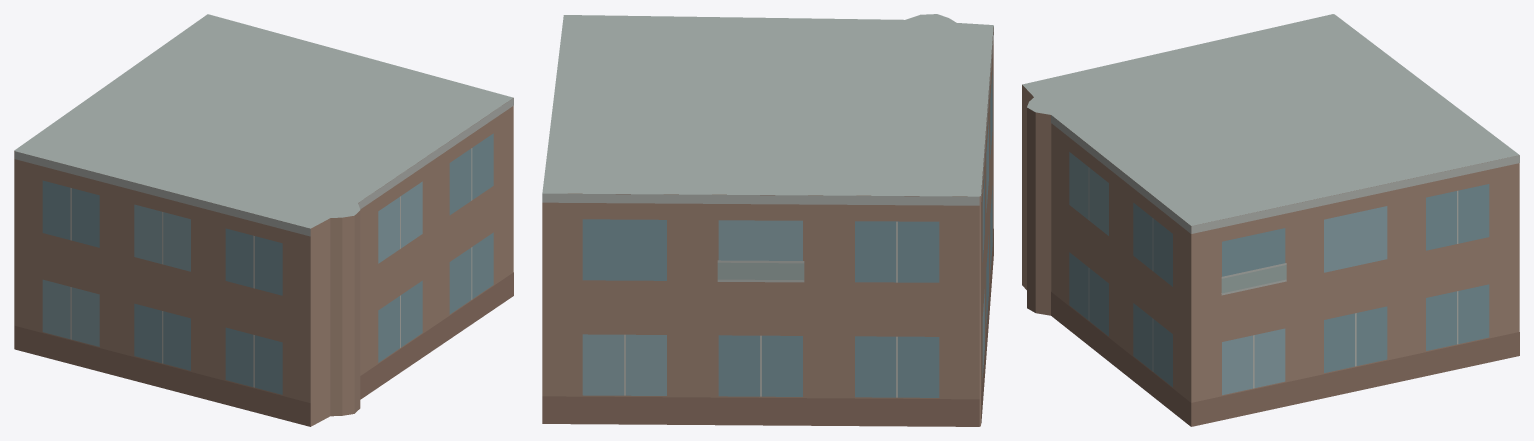
Rendered from survey-upis-32816329.glb.
The picture shows the model from 3 angles, left to right: view 1: azimuth 30°, elevation 25°; view 2: azimuth 150°, elevation 25°; view 3: azimuth 270°, elevation 25°; orthographic projection. The views are drawn at different scales.
Visible parts, largest first — view 1: survey-upis-32816329.tmp; view 2: survey-upis-32816329.tmp; view 3: survey-upis-32816329.tmp.
Part boxes in pixels (x1,y1,x2,y2): survey-upis-32816329.tmp: (14,14,513,426); survey-upis-32816329.tmp: (542,14,993,426); survey-upis-32816329.tmp: (1022,14,1519,426).
Size of the model in its own units: 13.83 by 6.1 by 13.71.
